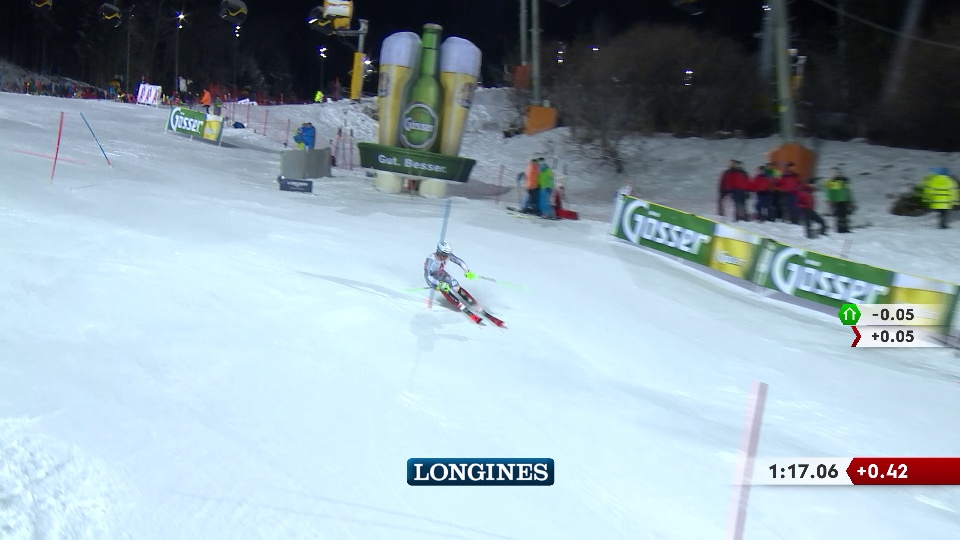goesser: (372, 30, 480, 157), (752, 244, 876, 318), (622, 205, 725, 263), (371, 152, 456, 178), (169, 110, 213, 143)
longines: (410, 460, 558, 486), (282, 180, 315, 191)
